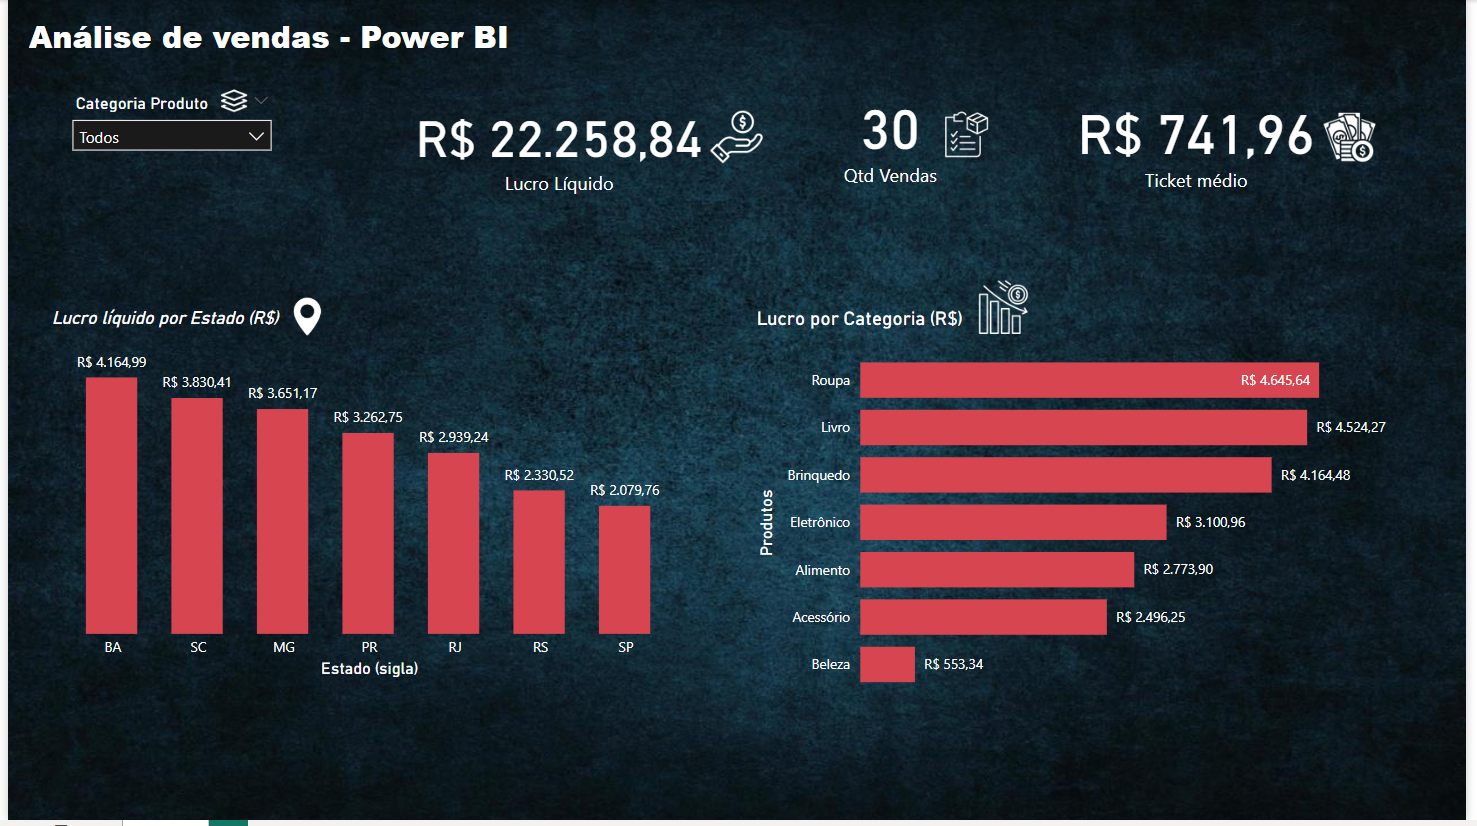

Layout of this report page (visuals, bound fields, positions):
{"tool":"powerbi","page":{"name":"Página 1","canvas":[1280,720],"ordinal":0},"visuals":[{"type":"card","fields":{"Values":["Sum(Ecommerce.Lucro Liquido (R$))"]},"box":[317.9,50,332.8,156.3],"z":0},{"type":"columnChart","title":"Lucro líquido por Estado (R$)","fields":{"Category":["Ecommerce.Estado (sigla)"],"Y":["Sum(Ecommerce.Lucro Liquido (R$))"]},"box":[33.4,269.6,568.1,330.1],"z":1000},{"type":"clusteredBarChart","title":"Lucro por Categoria (R$)","fields":{"Category":["Ecommerce.Categoria Produto"],"Y":["Sum(Ecommerce.Lucro Liquido (R$))"]},"box":[652.6,269.4,568,352.1],"z":2000},{"type":"slicer","fields":{"Values":["Ecommerce.Categoria Produto"]},"box":[46.7,76.8,194.5,116.7],"z":3000},{"type":"card","fields":{"Values":["Ecommerce.Qtd Vendas"]},"box":[664.7,43,220.4,151],"z":4000},{"type":"image","box":[144,72,109.9,33.1],"z":5000},{"type":"image","box":[592.7,92.2,94.8,56.2],"z":6000},{"type":"textbox","box":[13.2,7.9,1208.2,69.4],"z":8000},{"type":"card","fields":{"Values":["Ecommerce.Ticket médio"]},"box":[919.3,63.2,248.5,120.3],"z":9000},{"type":"image","box":[747.2,90.4,189.7,55.3],"z":10000},{"type":"image","box":[1148.5,72,58.8,96.6],"z":11000},{"type":"image","box":[845.6,221.3,57.1,96.6],"z":12000},{"type":"image","box":[228.3,256.4,69.4,43],"z":12001}]}

Visuals, with their boxes in screenshot pixels (x1, y1, x2, y2), scaled from the page's 1280x720 canvas onto the 1477x826 screenshot:
card - Sum(Ecommerce.Lucro Liquido (R$)): region(367, 57, 751, 237)
"Lucro líquido por Estado (R$)" columnChart: region(39, 309, 694, 688)
"Lucro por Categoria (R$)" clusteredBarChart: region(753, 309, 1408, 713)
slicer - Ecommerce.Categoria Produto: region(54, 88, 278, 222)
card - Ecommerce.Qtd Vendas: region(767, 49, 1021, 223)
image: region(166, 83, 293, 121)
image: region(684, 106, 793, 170)
textbox: region(15, 9, 1409, 89)
card - Ecommerce.Ticket médio: region(1061, 73, 1348, 211)
image: region(862, 104, 1081, 167)
image: region(1325, 83, 1393, 193)
image: region(976, 254, 1042, 365)
image: region(263, 294, 344, 343)
